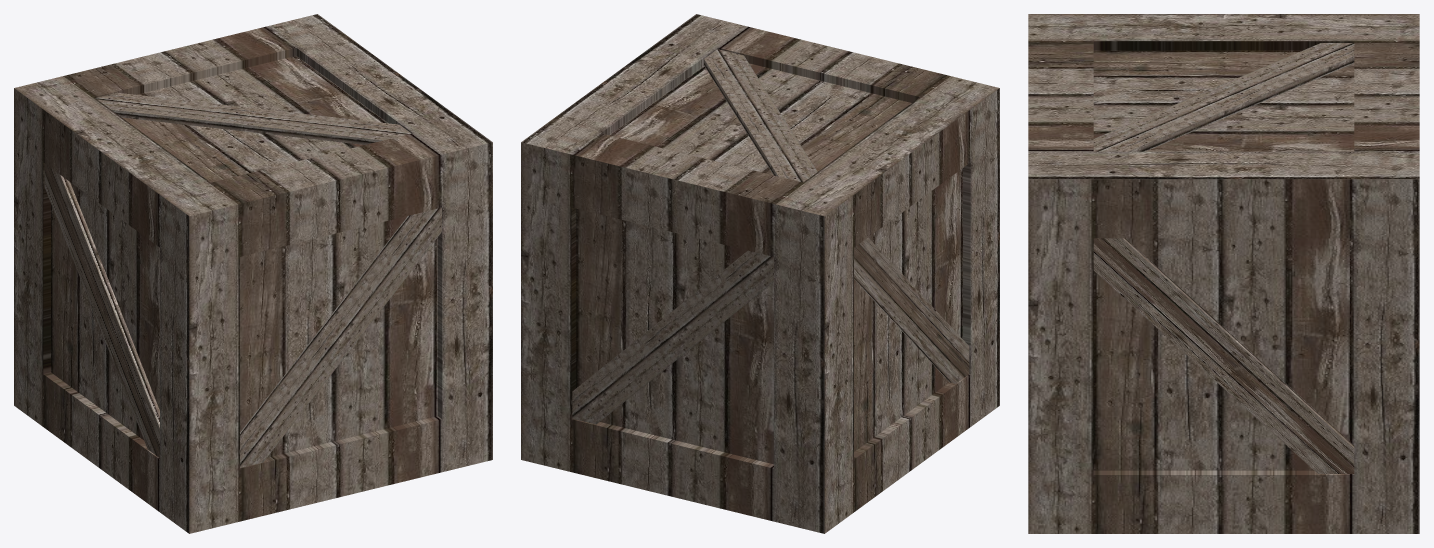
File: WoodenBox.FBX
3 renders of one model, left to right at view 1: azimuth 30°, elevation 25°; view 2: azimuth 150°, elevation 25°; view 3: azimuth 270°, elevation 25°, orthographic. The views are drawn at different scales.
Visible parts, largest first — view 1: Box001, Box004, Box002, Box006; view 2: Box001, Box005, Box002, Box006; view 3: Box001, Box003, Box006.
Part boxes in pixels (left/top/right/bottom): Box001: left=14, top=14, right=492, bottom=533; Box004: left=240, top=207, right=441, bottom=467; Box002: left=44, top=163, right=159, bottom=457; Box006: left=95, top=92, right=411, bottom=144; Box001: left=521, top=14, right=999, bottom=533; Box005: left=572, top=250, right=773, bottom=424; Box002: left=854, top=237, right=969, bottom=383; Box006: left=704, top=49, right=817, bottom=182; Box001: left=1028, top=14, right=1419, bottom=533; Box003: left=1093, top=238, right=1354, bottom=473; Box006: left=1093, top=43, right=1354, bottom=151.
Size of the model in its own units: 39.37 by 39.37 by 39.37.
1 material, 1 textured.
